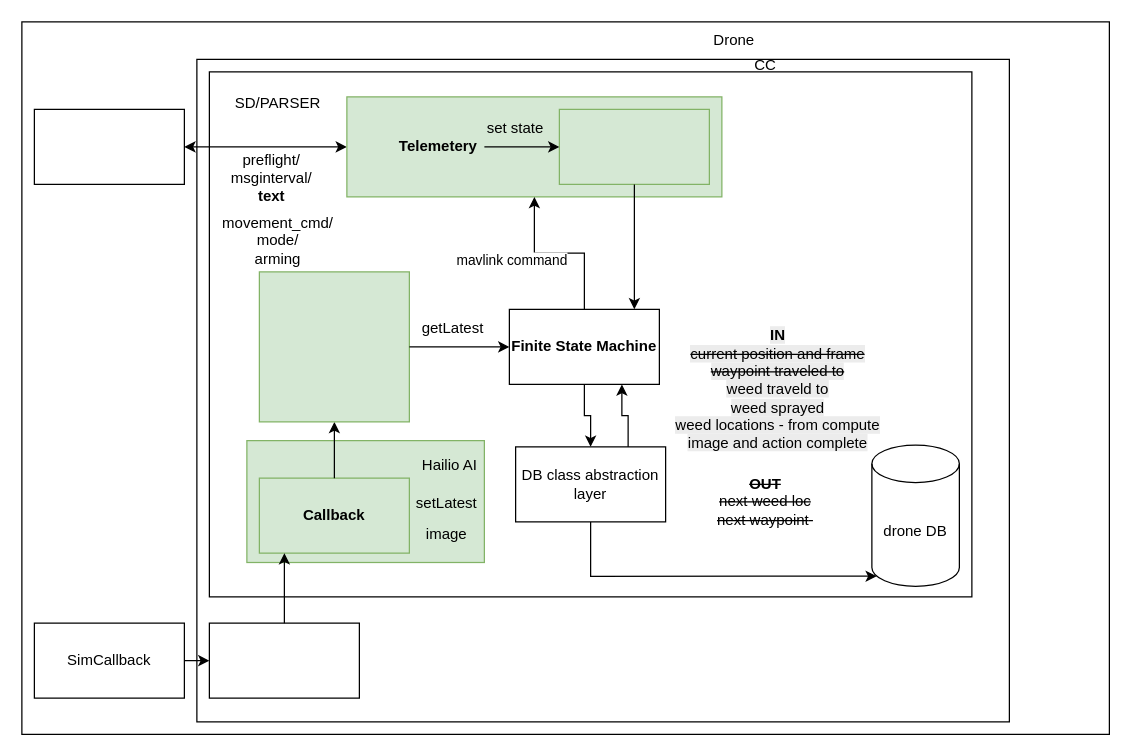
The diagram is 1131 pixels wide and 756 high, and some of its shapes have lost their labels. The centre of each missing label's shape, as x and y in pixels:
AI Latest Frame (BBs) Unsaved Frames: the point at 333,346
Drone State: the point at 633,146
FC: the point at 108,146
HAILO: the point at 283,660
